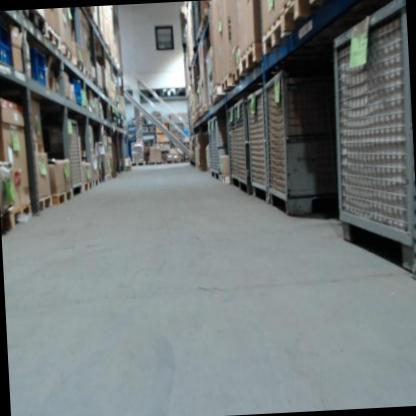pallet: (282, 0, 330, 38), (260, 13, 287, 58), (239, 40, 263, 78), (6, 203, 33, 229), (45, 27, 62, 52), (52, 189, 73, 204), (230, 62, 242, 88), (60, 42, 73, 62), (221, 72, 232, 94), (38, 196, 53, 211), (147, 158, 163, 166), (83, 67, 92, 80), (82, 181, 93, 191), (166, 158, 183, 164), (130, 161, 146, 167), (90, 178, 100, 187), (103, 173, 111, 181)
small_load_carrier: (29, 42, 48, 87), (0, 18, 14, 67), (71, 79, 83, 107)
stillage: (316, 0, 416, 279), (262, 67, 323, 218), (245, 81, 271, 204), (55, 115, 86, 194), (233, 94, 251, 194), (211, 113, 232, 184), (226, 105, 240, 185), (206, 118, 215, 180)
